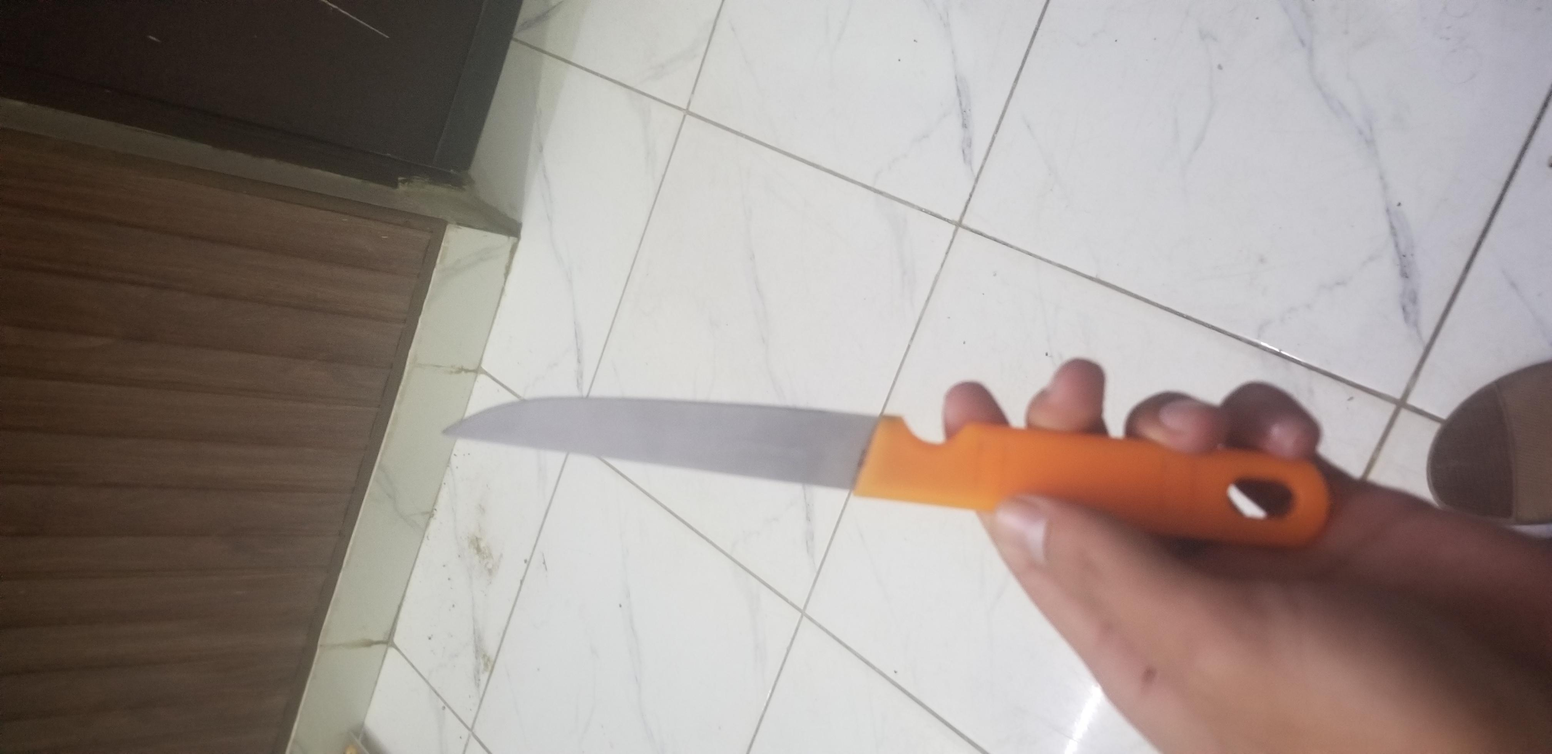knives: (351, 211, 785, 645)
